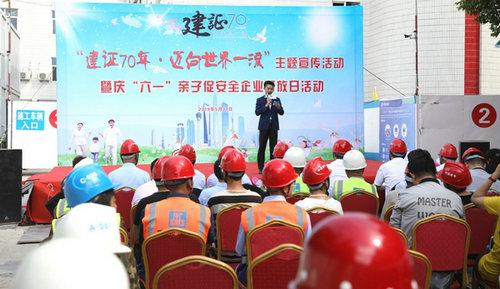helmet: (290, 214, 414, 289), (63, 168, 118, 204), (261, 159, 298, 189), (438, 161, 473, 188), (302, 156, 331, 186), (161, 158, 196, 180), (342, 151, 369, 173), (221, 151, 246, 173), (285, 146, 308, 168), (462, 146, 486, 163), (439, 142, 458, 161), (179, 144, 198, 162), (121, 140, 139, 158), (331, 141, 354, 154), (391, 139, 408, 156), (274, 143, 287, 156)
